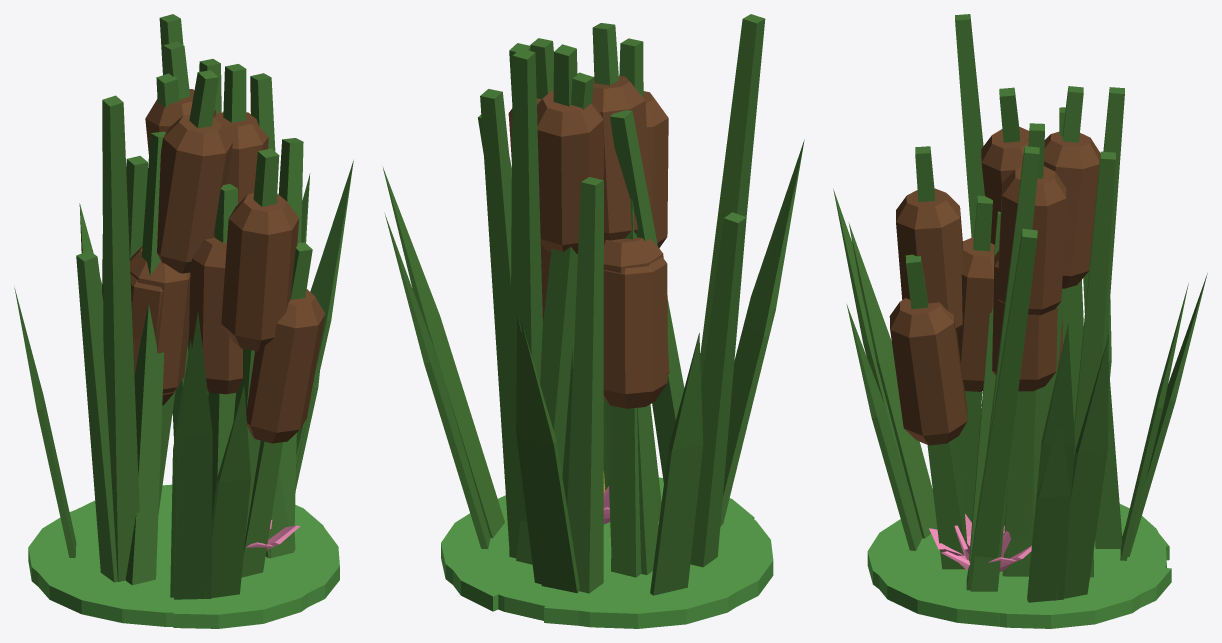
File: w1_pond.fbx
The picture shows the model from 3 angles, left to right: view 1: azimuth 30°, elevation 25°; view 2: azimuth 150°, elevation 25°; view 3: azimuth 270°, elevation 25°; orthographic projection. The views are drawn at different scales.
Parts seen in each view (by area): view 1: ReedsB.Stems, ReedsA.Stems, ReedsC.Stems, ReedsB.Heads, LilyPadA.Pad, ReedsC.Heads, ReedsA.Heads, LilyPadB.Pad; view 2: ReedsB.Stems, ReedsA.Stems, ReedsC.Stems, ReedsA.Heads, LilyPadA.Pad, LilyPadB.Pad, ReedsB.Heads, ReedsC.Heads; view 3: ReedsB.Stems, ReedsA.Stems, ReedsC.Stems, ReedsA.Heads, ReedsB.Heads, LilyPadB.Pad, ReedsC.Heads, LilyPadA.Pad, LilyPadB.Bloom.
Part boxes in pixels (<box>): ReedsB.Stems: <box>14,59,353,597</box>; ReedsA.Stems: <box>76,41,312,599</box>; ReedsC.Stems: <box>102,14,319,598</box>; ReedsB.Heads: <box>157,112,268,394</box>; LilyPadA.Pad: <box>33,484,339,626</box>; ReedsC.Heads: <box>130,193,299,393</box>; ReedsA.Heads: <box>130,89,325,443</box>; LilyPadB.Pad: <box>28,493,324,628</box>; ReedsB.Stems: <box>383,14,795,595</box>; ReedsA.Stems: <box>384,44,804,592</box>; ReedsC.Stems: <box>509,38,684,584</box>; ReedsA.Heads: <box>537,90,667,408</box>; LilyPadA.Pad: <box>445,477,773,625</box>; LilyPadB.Pad: <box>441,477,754,628</box>; ReedsB.Heads: <box>508,76,653,246</box>; ReedsC.Heads: <box>541,91,669,374</box>; ReedsB.Stems: <box>848,14,1122,598</box>; ReedsA.Stems: <box>833,86,1207,600</box>; ReedsC.Stems: <box>846,87,1188,602</box>; ReedsA.Heads: <box>889,131,1100,445</box>; ReedsB.Heads: <box>957,127,1066,391</box>; LilyPadB.Pad: <box>867,504,1166,628</box>; ReedsC.Heads: <box>896,188,1062,391</box>; LilyPadA.Pad: <box>875,507,1171,626</box>; LilyPadB.Bloom: <box>929,514,1031,571</box>.
Size of the model in its own units: 2.42 by 3.73 by 2.45.
